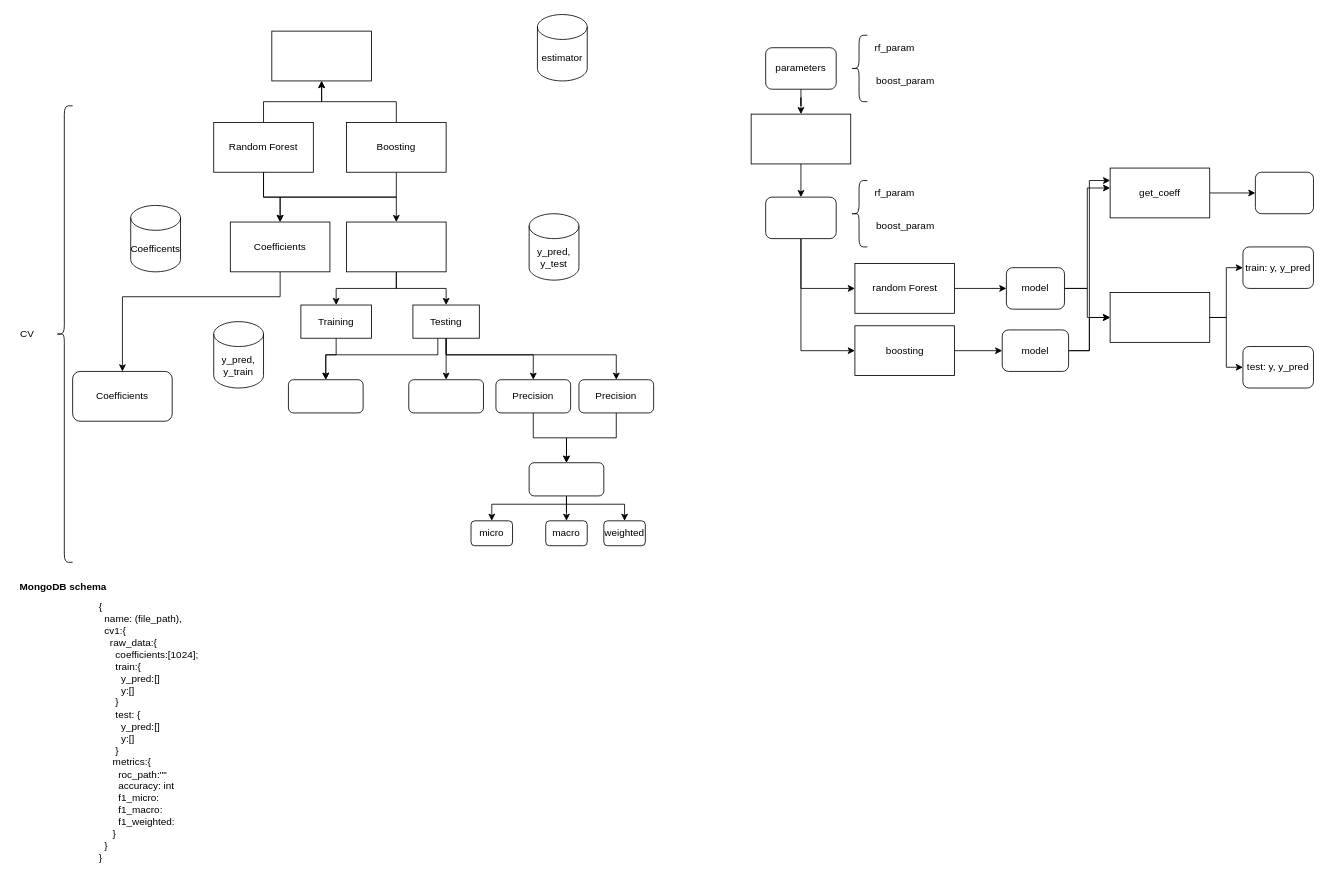
This 1328x878 diagram has some shape labels left out. Here are the shapes that lost their labels. From the top down, the centre of each, then its label:
At (321,55): "get_best_estimator".
At (800,138): "perform_grid_search".
At (1284,192): "coef".
At (800,217): "best parameters".
At (396,246): "Metrics".
At (1159,317): "get_predict".
At (325,396): "ROC".
At (445,396): "Accuracy".
At (566,479): "F1 Score".
